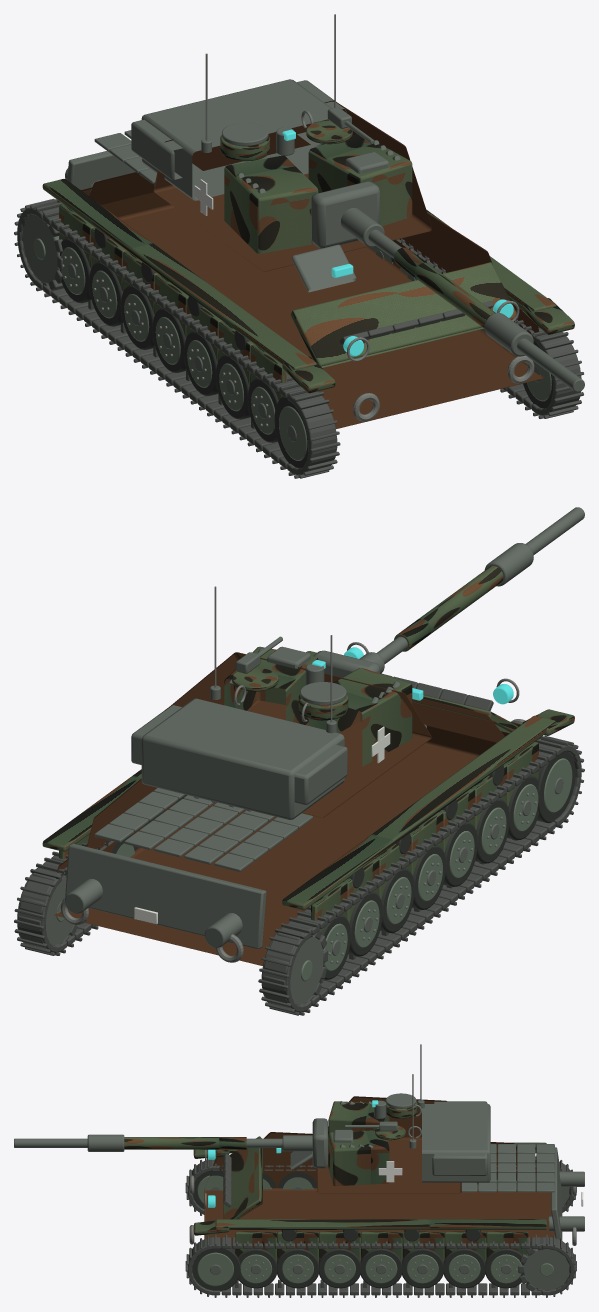
Rendered from leopard.glb.
3 renders of one model, top to bottom at view 1: azimuth 30°, elevation 25°; view 2: azimuth 150°, elevation 25°; view 3: azimuth 270°, elevation 25°, orthographic. The views are drawn at different scales.
Visible parts, largest first — view 1: Batch_HullVisual_1_leopard_Camouflage, Batch_HullVisual_2_leopard_Camouflage, Batch_TurretPivot_3_leopard_Camouflage, Batch_HullVisual_5_TrackSteel, TurretBustle, Batch_HullVisual_8_leopard_Camouflage, Batch_GunTube_3_leopard_DarkArmor, Batch_HullVisual_2_leopard_DarkArmor, GunMantlet, Batch_TurretPivot_7_leopard_DarkArmor, Batch_TurretPivot_8_leopard_DarkArmor, ThermalSleeve (+23 smaller); view 2: Batch_HullVisual_1_leopard_Camouflage, TurretBustle, Batch_HullVisual_5_TrackSteel, Batch_TurretPivot_3_leopard_Camouflage, Batch_HullVisual_6_leopard_DarkArmor, Batch_HullVisual_2_leopard_DarkArmor, Batch_HullVisual_2_leopard_Camouflage, Batch_HullVisual_8_leopard_Camouflage, Batch_TurretPivot_8_leopard_DarkArmor, Batch_TurretPivot_7_leopard_DarkArmor, Batch_GunTube_3_leopard_DarkArmor, ThermalSleeve (+24 smaller); view 3: Batch_HullVisual_1_leopard_Camouflage, Batch_HullVisual_5_TrackSteel, Batch_TurretPivot_3_leopard_Camouflage, Batch_HullVisual_2_leopard_Camouflage, Batch_HullVisual_8_leopard_Camouflage, Batch_HullVisual_6_leopard_DarkArmor, TurretBustle, Batch_GunTube_3_leopard_DarkArmor, ThermalSleeve, Batch_TurretPivot_8_leopard_DarkArmor, Sprocket_R, Batch_TurretPivot_7_leopard_DarkArmor (+24 smaller).
Part boxes in pixels (x1,y1,x2,y2): Batch_HullVisual_1_leopard_Camouflage: (57,172,544,428); Batch_HullVisual_2_leopard_Camouflage: (42,179,574,393); Batch_TurretPivot_3_leopard_Camouflage: (153,100,431,271); Batch_HullVisual_5_TrackSteel: (14,198,583,478); TurretBustle: (141,79,331,200); Batch_HullVisual_8_leopard_Camouflage: (59,204,521,400); Batch_GunTube_3_leopard_DarkArmor: (341,207,584,392); Batch_HullVisual_2_leopard_DarkArmor: (67,151,356,292); GunMantlet: (311,181,379,248); Batch_TurretPivot_7_leopard_DarkArmor: (201,107,388,173); Batch_TurretPivot_8_leopard_DarkArmor: (131,80,400,193); ThermalSleeve: (394,247,495,328); Batch_HullVisual_1_leopard_Camouflage: (54,699,539,965); TurretBustle: (141,698,344,819); Batch_HullVisual_5_TrackSteel: (14,735,584,1015); Batch_TurretPivot_3_leopard_Camouflage: (164,646,431,817); Batch_HullVisual_6_leopard_DarkArmor: (65,788,312,947); Batch_HullVisual_2_leopard_DarkArmor: (65,724,426,949); Batch_HullVisual_2_leopard_Camouflage: (42,651,574,910); Batch_HullVisual_8_leopard_Camouflage: (59,742,538,931); Batch_TurretPivot_8_leopard_DarkArmor: (131,648,400,804); Batch_TurretPivot_7_leopard_DarkArmor: (210,636,346,733); Batch_GunTube_3_leopard_DarkArmor: (359,507,584,673); ThermalSleeve: (394,566,503,651); Batch_HullVisual_1_leopard_Camouflage: (204,1132,554,1245); Batch_HullVisual_5_TrackSteel: (185,1156,576,1297); Batch_TurretPivot_3_leopard_Camouflage: (317,1096,461,1193); Batch_HullVisual_2_leopard_Camouflage: (193,1136,546,1235); Batch_HullVisual_8_leopard_Camouflage: (235,1231,528,1262); Batch_HullVisual_6_leopard_DarkArmor: (461,1144,584,1231); TurretBustle: (422,1104,490,1182); Batch_GunTube_3_leopard_DarkArmor: (14,1134,312,1151); ThermalSleeve: (124,1137,246,1149); Batch_TurretPivot_8_leopard_DarkArmor: (340,1101,487,1175); Sprocket_R: (523,1249,569,1290); Batch_TurretPivot_7_leopard_DarkArmor: (333,1093,424,1148).
Size of the model in its own units: 4.06 by 4.3 by 11.18.
8 materials, 1 textured.
